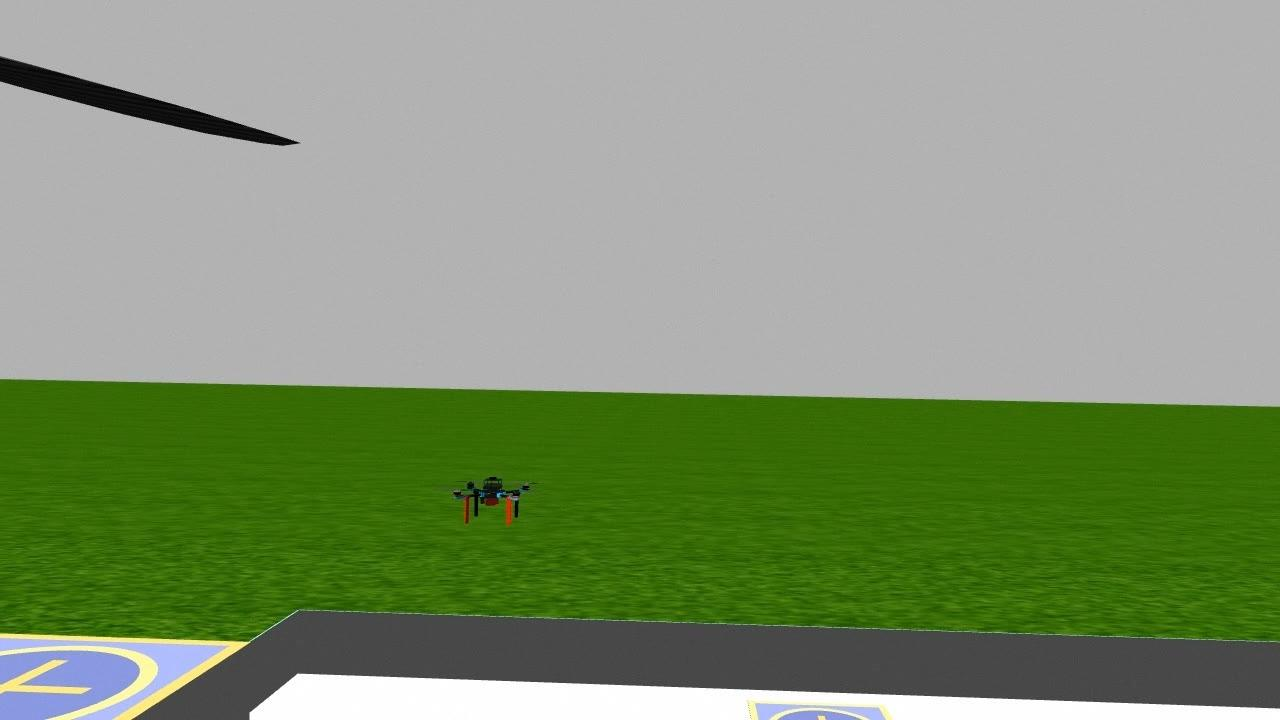UAV: (442, 459, 538, 540)
